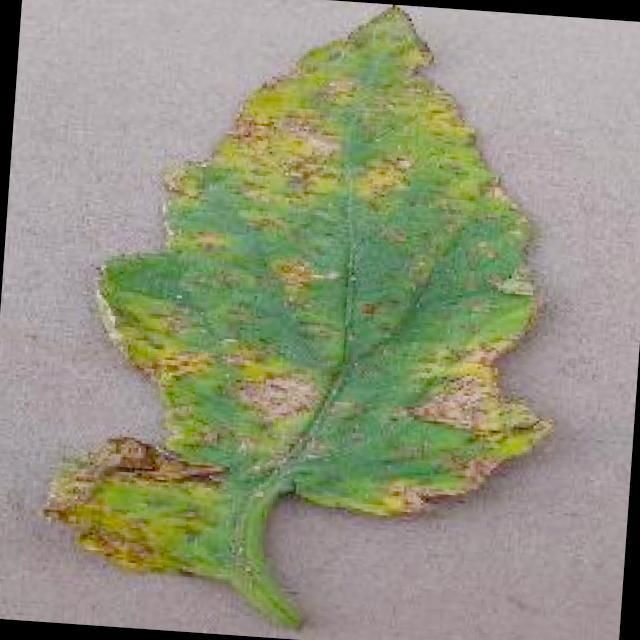Tomato bacterial spot leaf: (29, 0, 583, 611)
